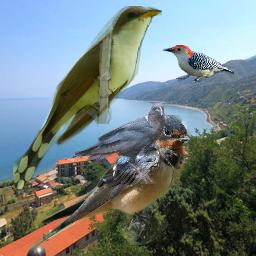Crow: (75, 103, 165, 184)
Cuckoo: (13, 6, 162, 189)
Swallow: (31, 115, 193, 251)
Woodpecker: (163, 45, 234, 83)
